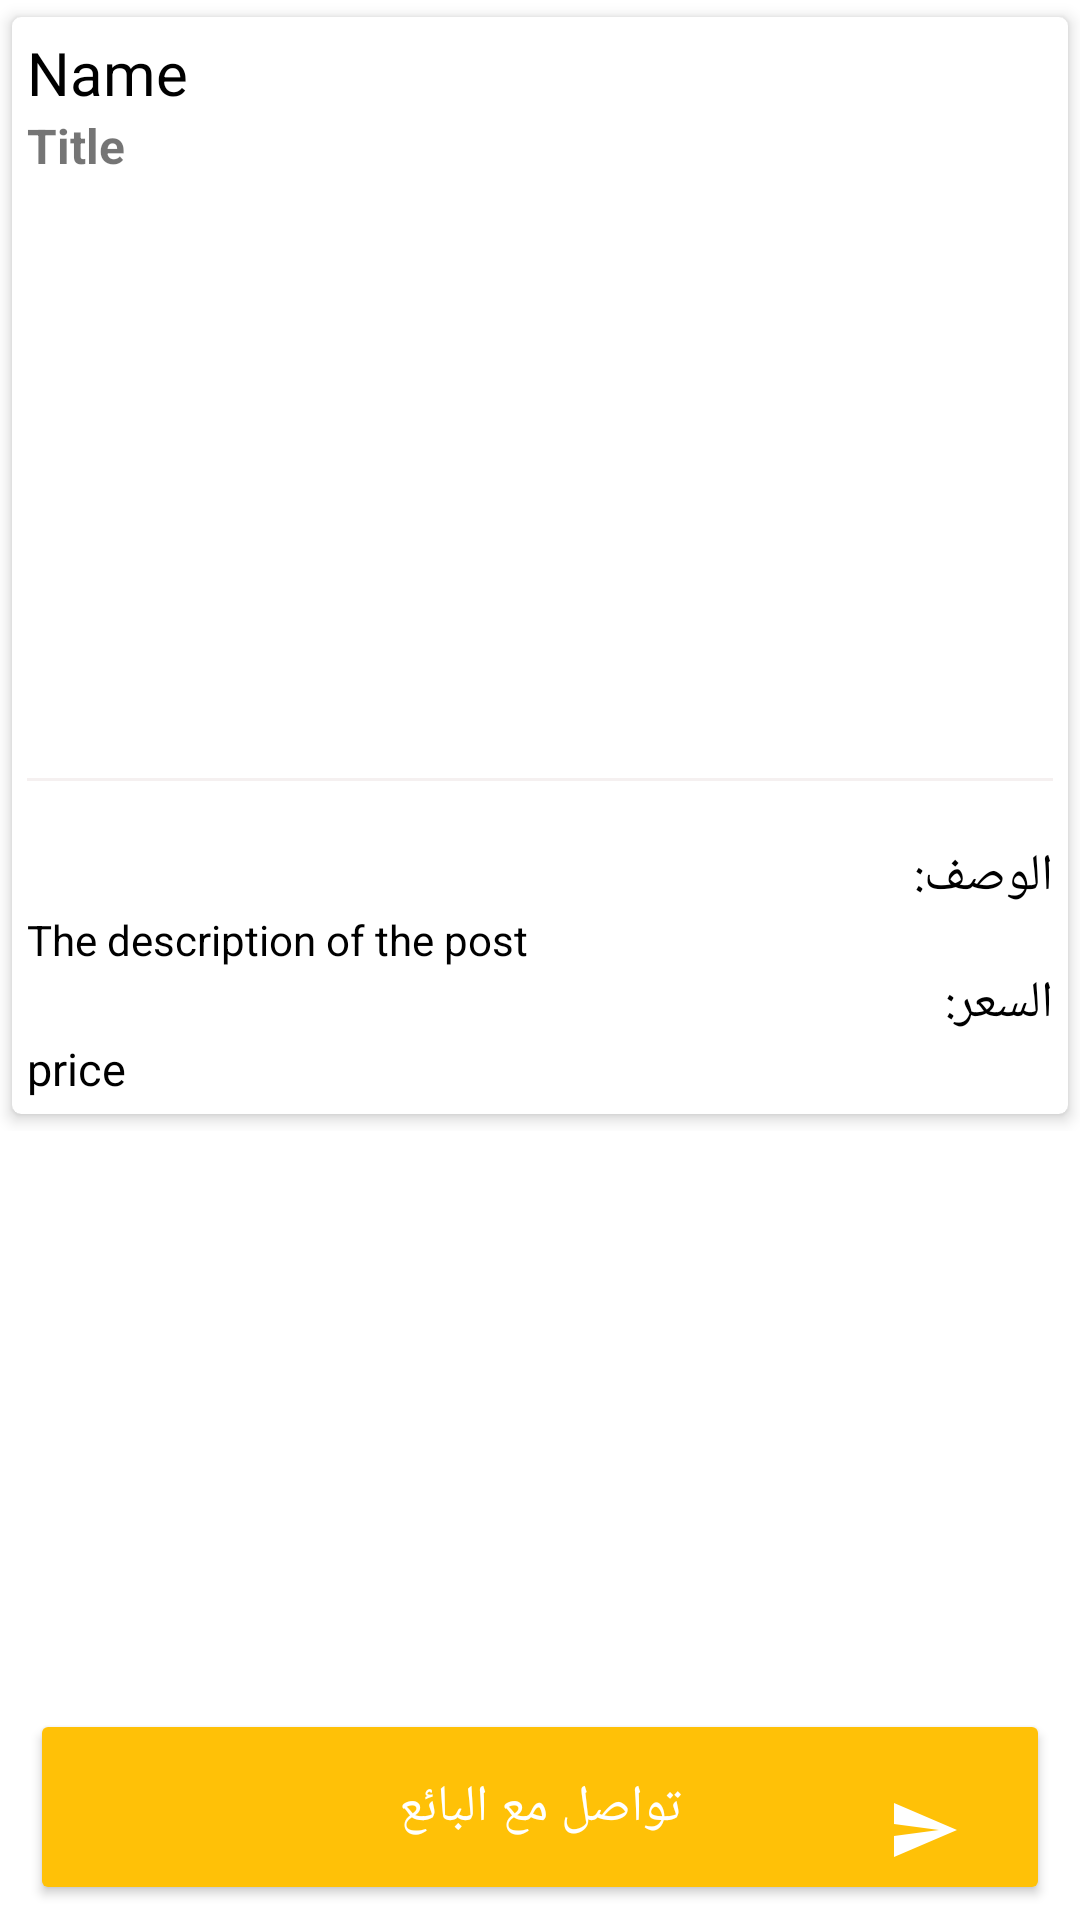

Screen size 1080w x 1920h. Icon name, then its center in pixels as [x,y]:
send: [925,1830]
